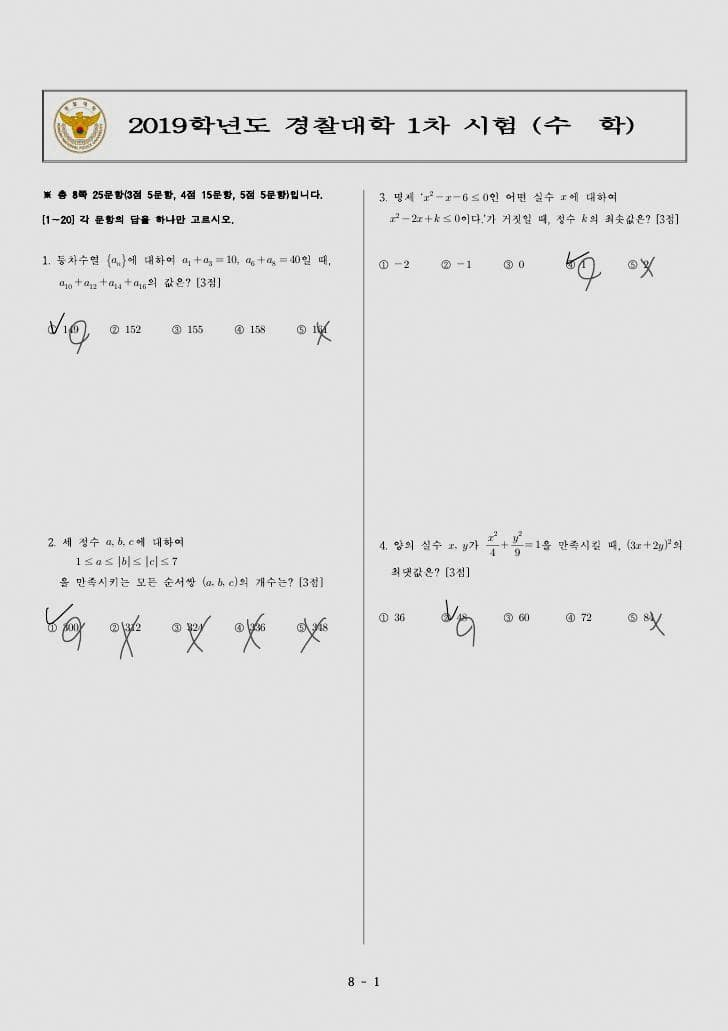question: (32, 529, 341, 664), (367, 523, 691, 651), (29, 245, 350, 365), (366, 182, 689, 294)
